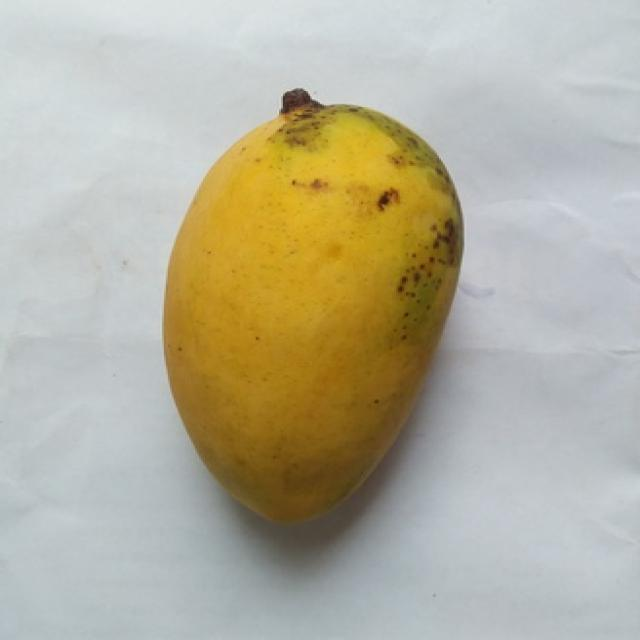Mango: (164, 102, 462, 520)
